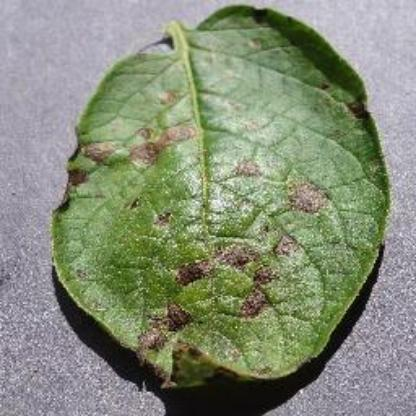Early-Blight: (48, 2, 400, 404)
